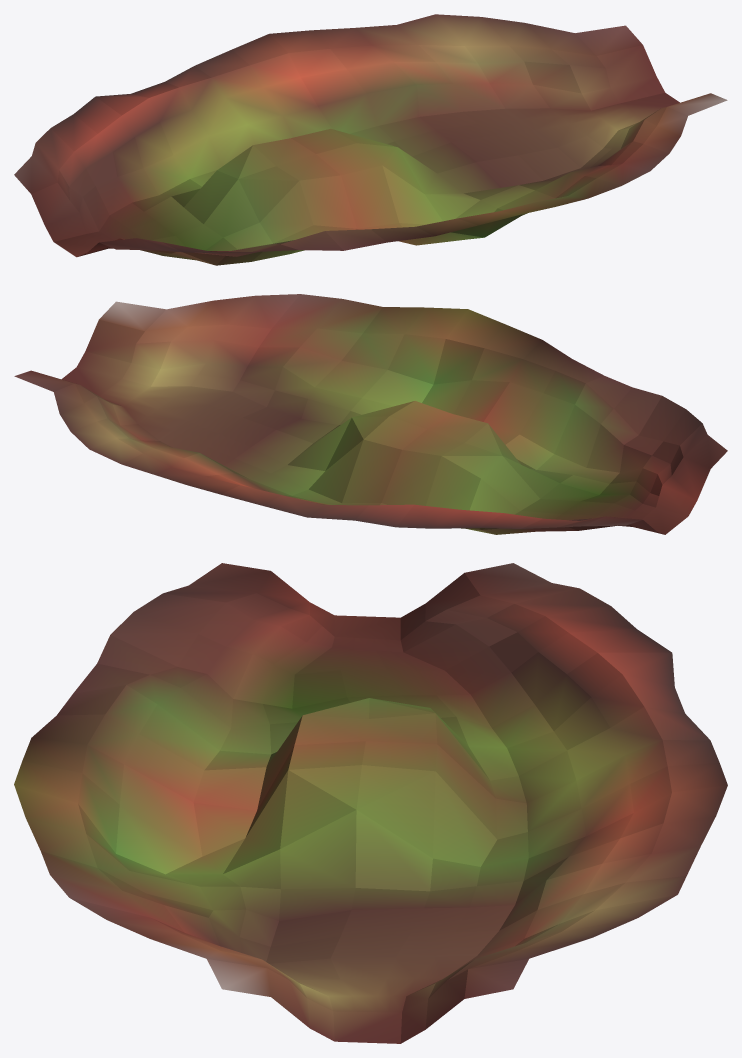
File: TerrainIsland.fbx
3 renders of one model, top to bottom at view 1: azimuth 30°, elevation 25°; view 2: azimuth 150°, elevation 25°; view 3: azimuth 270°, elevation 25°, orthographic. The views are drawn at different scales.
Parts seen in each view (by area): view 1: Plane.001; view 2: Plane.001; view 3: Plane.001.
Part boxes in pixels (left/top/right/bottom): Plane.001: left=14, top=14, right=727, bottom=265; Plane.001: left=14, top=294, right=727, bottom=534; Plane.001: left=14, top=563, right=727, bottom=1043.
Size of the model in its own units: 2000 by 218 by 1416.
